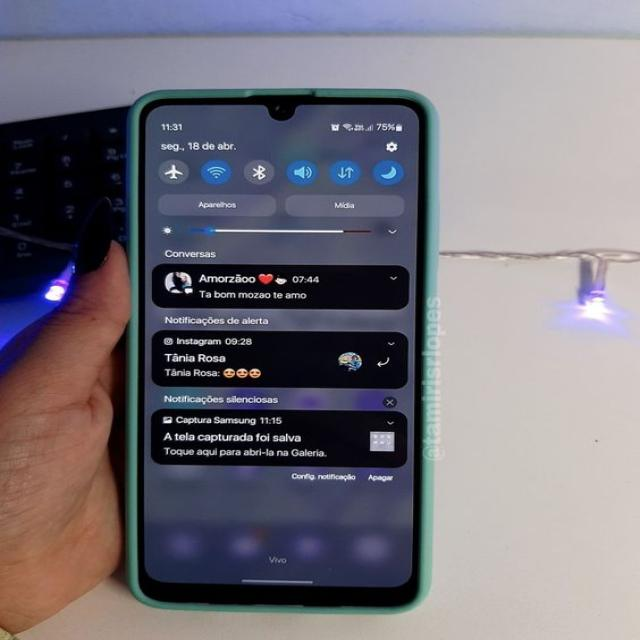phone: (114, 77, 443, 618)
